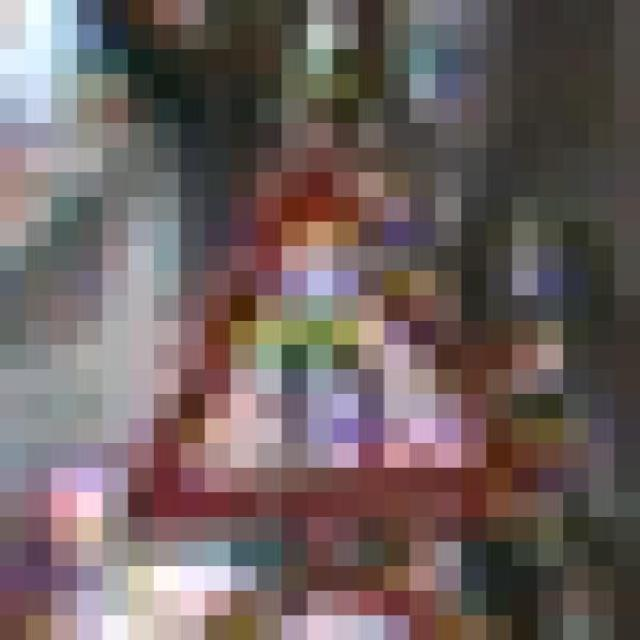-Road narrows on right: (102, 148, 538, 542)
